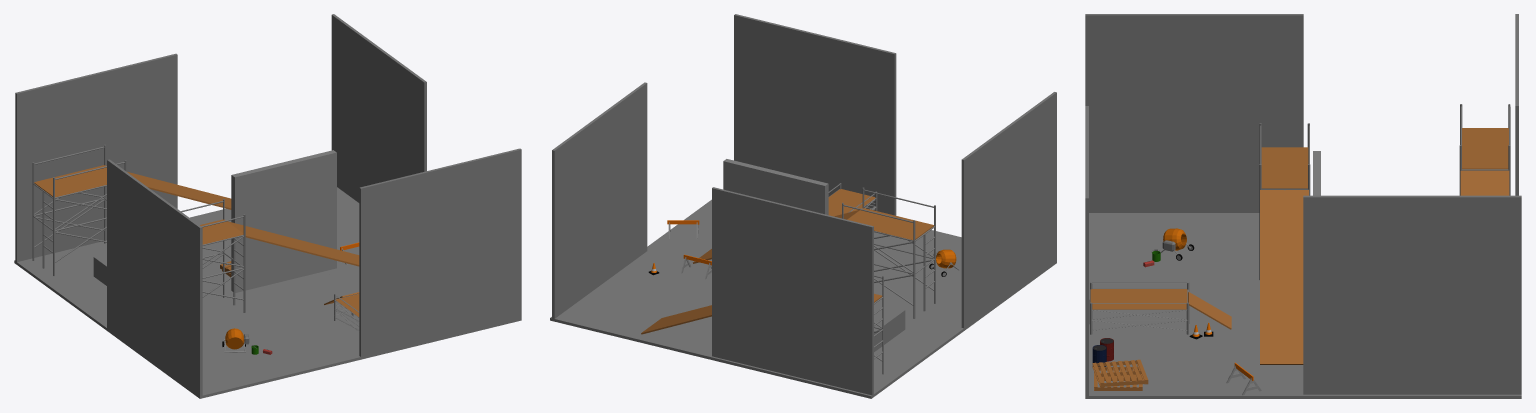
Rendered from 2x2Room.fbx.
The picture shows the model from 3 angles, left to right: view 1: azimuth 30°, elevation 25°; view 2: azimuth 150°, elevation 25°; view 3: azimuth 270°, elevation 25°; orthographic projection. The views are drawn at different scales.
Visible parts, largest first — view 1: Plane.016, Plane.013, Plane.018, Plane.019, Cube.034, Plane.014, Plane.011, Plane.015, Cube.005, Plane.012, Cube.035, Cube.036 (+3 smaller); view 2: Plane.013, Plane.016, Plane.018, Plane.019, Plane.012, Plane.014, Plane.011, Cube.034, Cube.035, Plane.015, Plane.017, Cube.037 (+1 smaller); view 3: Plane.019, Plane.018, Plane.015, Plane.014, Cube.036, Cube.037, Cube.035, Cube.005, Cube.014, Plane.016, Cube.040, Plane.012 (+4 smaller).
Boxes of the visible parts, x1,y1,x2,y2 form: Plane.016: [359, 148, 521, 356]; Plane.013: [15, 53, 177, 261]; Plane.018: [107, 159, 202, 396]; Plane.019: [331, 14, 426, 202]; Cube.034: [231, 150, 336, 292]; Plane.014: [107, 289, 360, 398]; Plane.011: [14, 240, 267, 330]; Plane.015: [268, 267, 521, 359]; Cube.005: [32, 144, 126, 275]; Plane.012: [190, 187, 359, 288]; Cube.035: [181, 199, 245, 312]; Cube.036: [227, 221, 359, 266]; Plane.013: [712, 187, 873, 395]; Plane.016: [734, 14, 896, 215]; Plane.018: [961, 92, 1056, 328]; Plane.019: [552, 82, 647, 318]; Plane.012: [550, 251, 711, 359]; Plane.014: [874, 230, 1056, 330]; Plane.011: [710, 314, 963, 398]; Cube.034: [723, 159, 828, 214]; Cube.035: [842, 187, 935, 318]; Plane.015: [647, 199, 879, 265]; Plane.017: [874, 303, 905, 351]; Cube.037: [828, 183, 877, 216]; Plane.019: [1303, 195, 1521, 394]; Plane.018: [1085, 14, 1303, 212]; Plane.015: [1085, 303, 1303, 398]; Plane.014: [1089, 213, 1259, 303]; Cube.036: [1260, 190, 1308, 364]; Cube.037: [1089, 282, 1189, 334]; Cube.035: [1259, 123, 1310, 279]; Cube.005: [1459, 104, 1510, 195]; Cube.014: [1460, 170, 1509, 195]; Plane.016: [1085, 106, 1088, 395]; Cube.040: [1092, 359, 1148, 387]; Plane.012: [1303, 394, 1521, 398].
Size of the model in its own units: 7200 by 3674 by 7200.
